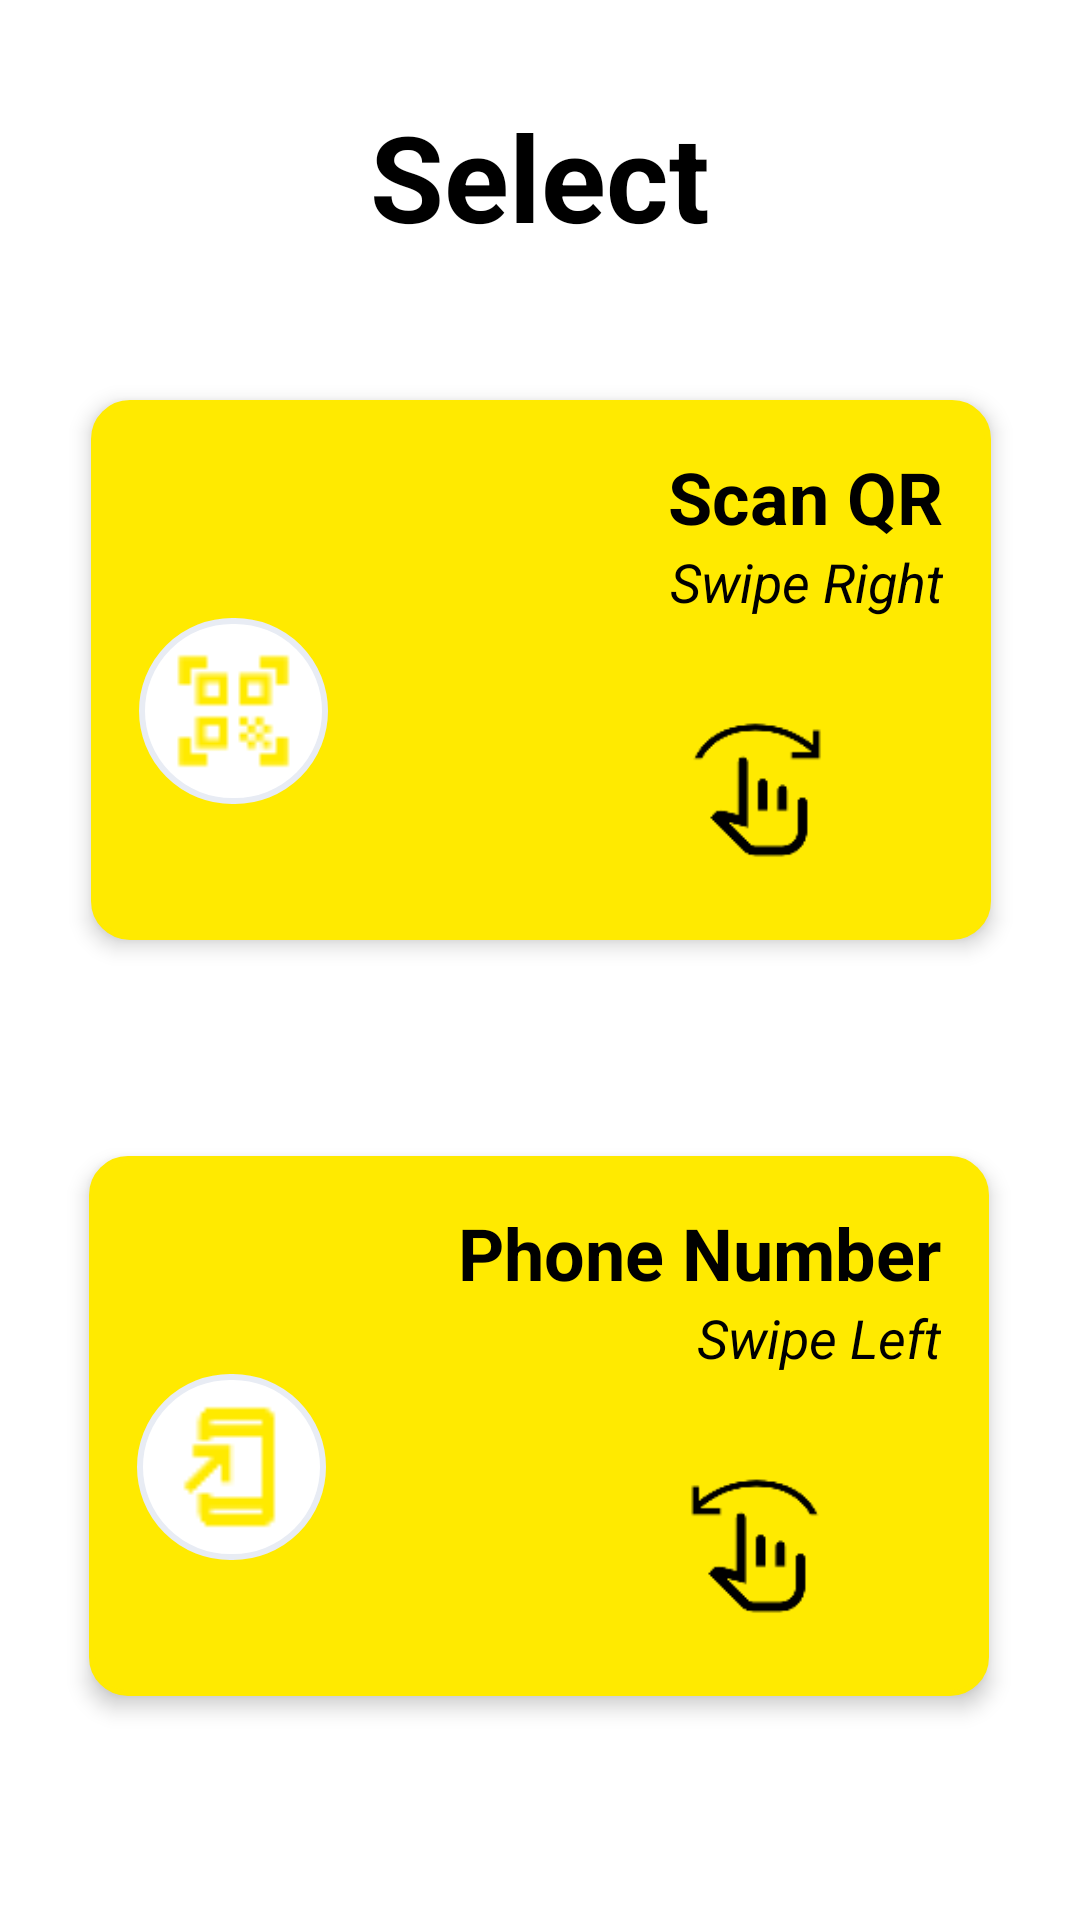

Icon click points for this 1080 x 1920 phone screenshot, format [x,y]:
scanqr: [233,711]
